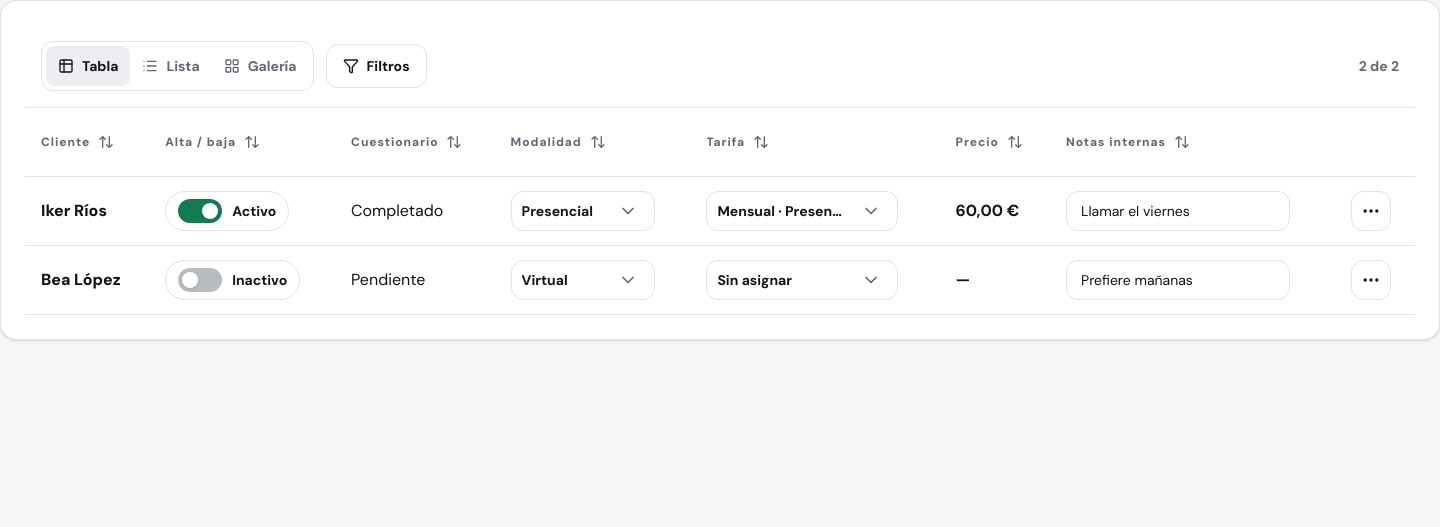
Scenario: ClientsTable › mantiene los filtros plegados y filtra cada columna con selectores internos
The image size is (1440, 527).
Check: the field with placeholder "Nombre…" is not shown
Click the button "Filtros" at point(376, 66), box top-left (326, 44), bottom-right (427, 88)
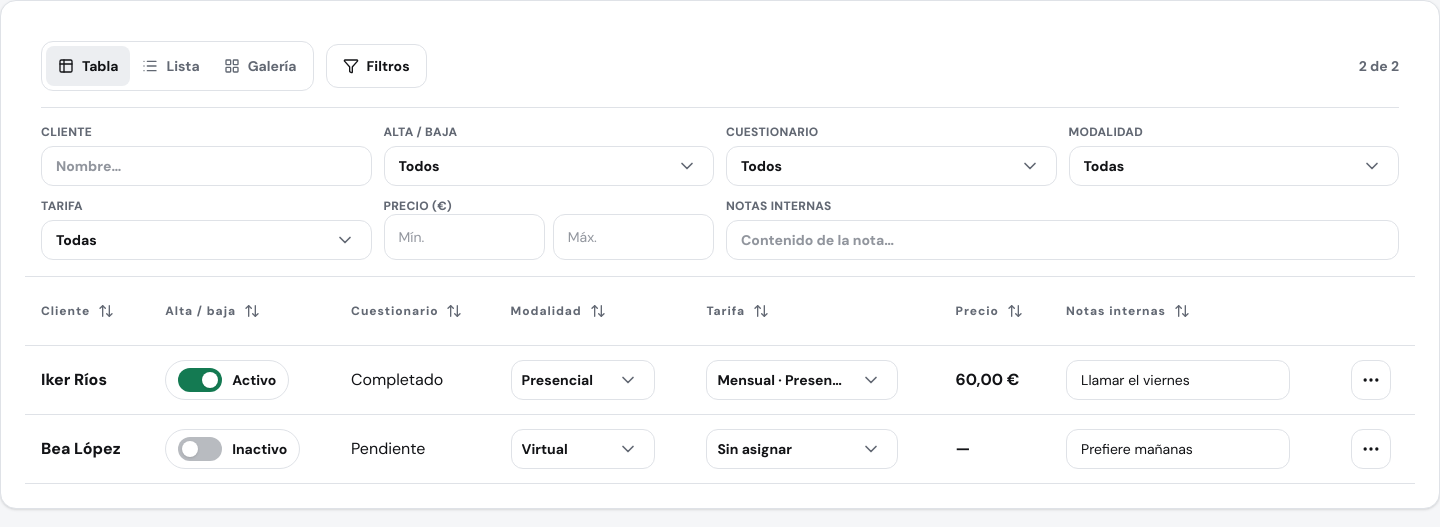
Check: the field with placeholder "Nombre…" is shown, box top-left (41, 146), bottom-right (372, 186)
Click the dropdown named "Filtrar por alta o baja" at point(419, 166), box top-left (384, 146), bottom-right (714, 186)
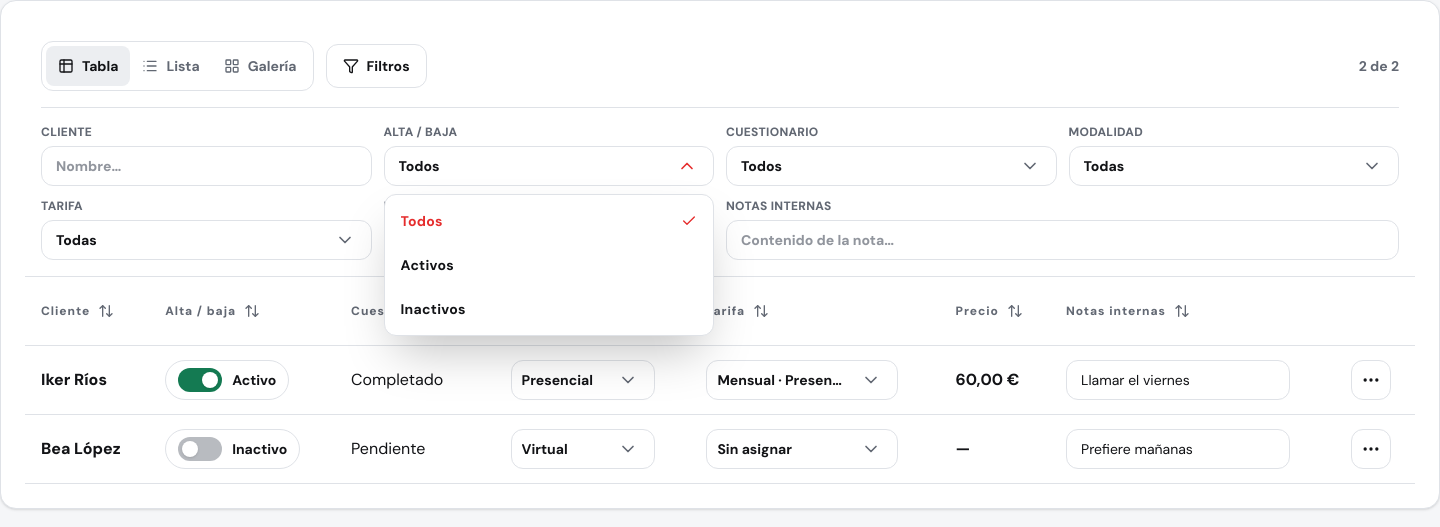
Click the option "Inactivos" at point(433, 309), box top-left (384, 287), bottom-right (713, 331)
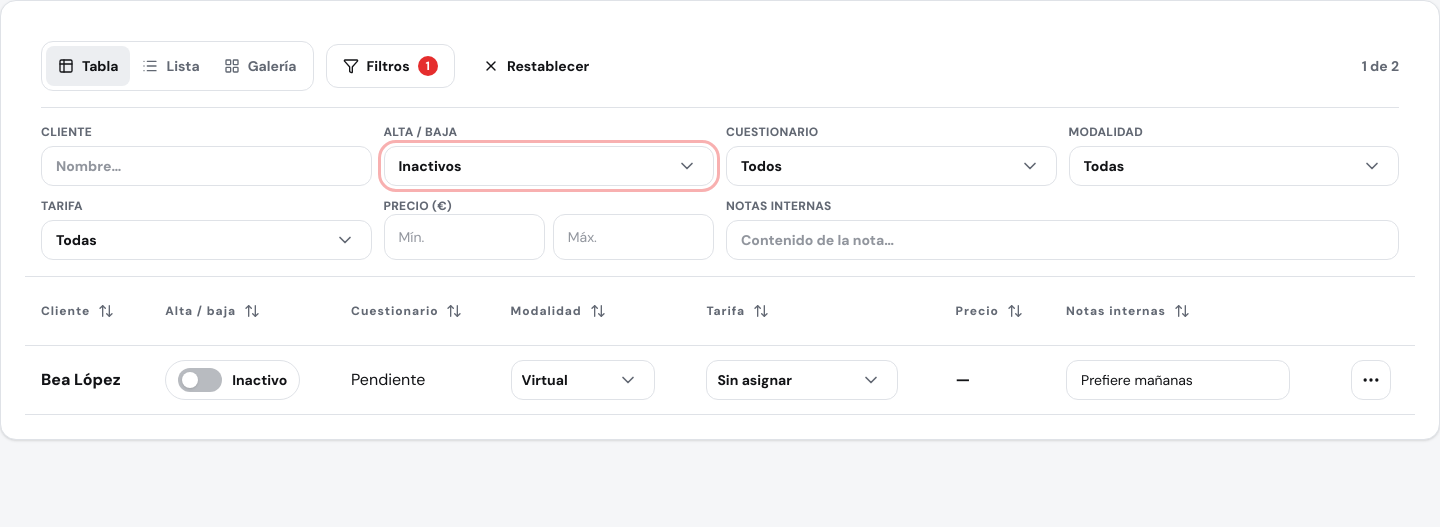
Check: the link "Bea López" is shown, box top-left (41, 369), bottom-right (121, 390)
Check: the link "Iker Ríos" is gone
Check: the button "Filtros 1" is shown, box top-left (326, 44), bottom-right (455, 88)
